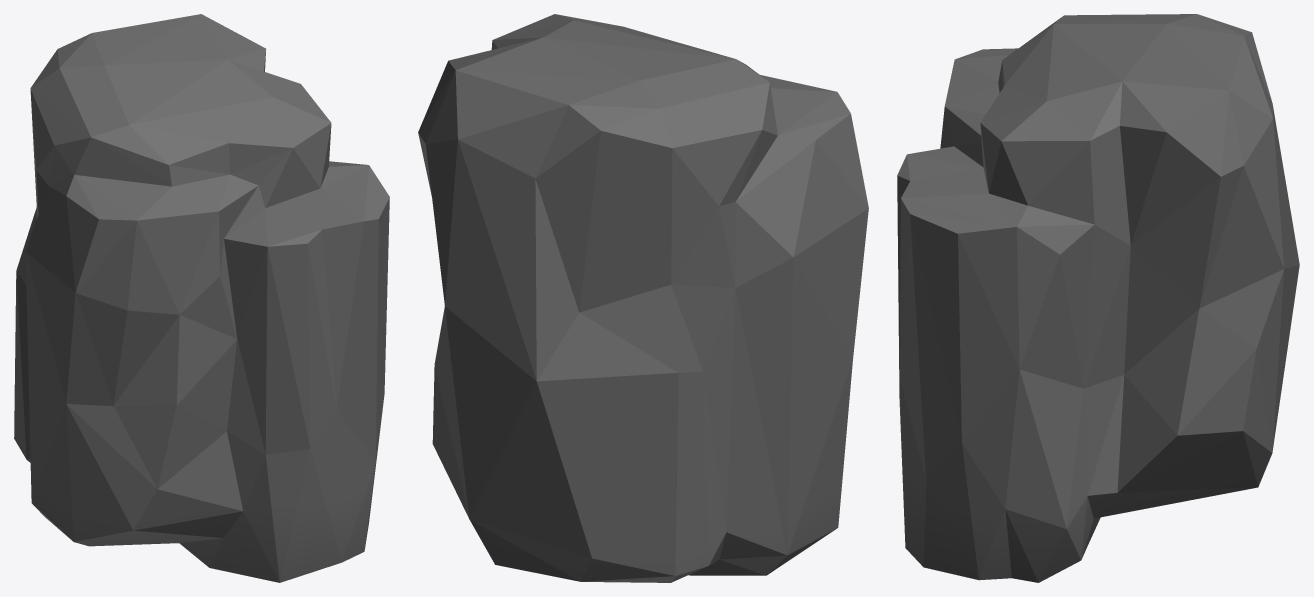
The model's file is um_rock006.FBX.
The picture shows the model from 3 angles, left to right: view 1: azimuth 30°, elevation 25°; view 2: azimuth 150°, elevation 25°; view 3: azimuth 270°, elevation 25°; orthographic projection. The views are drawn at different scales.
Parts seen in each view (by area): view 1: um_rock001; view 2: um_rock001; view 3: um_rock001.
Boxes of the visible parts, box(x1,y1,x2,y2) form: um_rock001: box(14, 14, 389, 582); um_rock001: box(418, 14, 868, 582); um_rock001: box(897, 14, 1299, 582).
Bounding box in the file's own units: 4.02 × 5.55 × 4.28.
